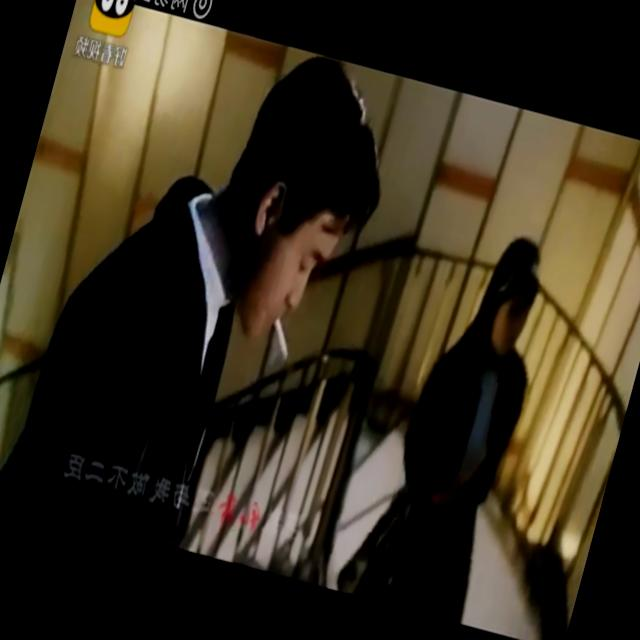cigarette: (268, 324, 298, 371)
